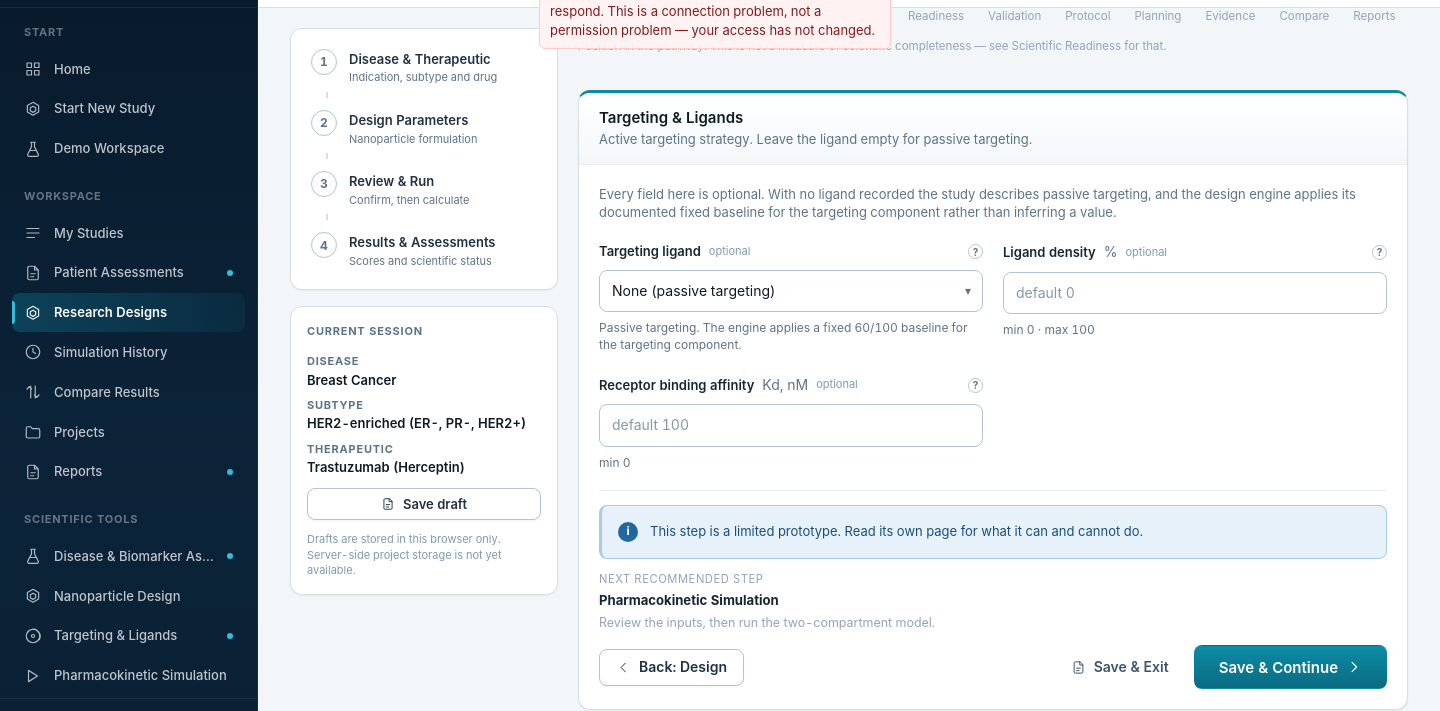
4. the controls appear and behave › moves back along the pathway when Back is pressed
This screenshot has width=1440, height=711.
(page scrolled)
Click the button with test id "pathway-back" at (672, 667), box [599, 649, 744, 686]
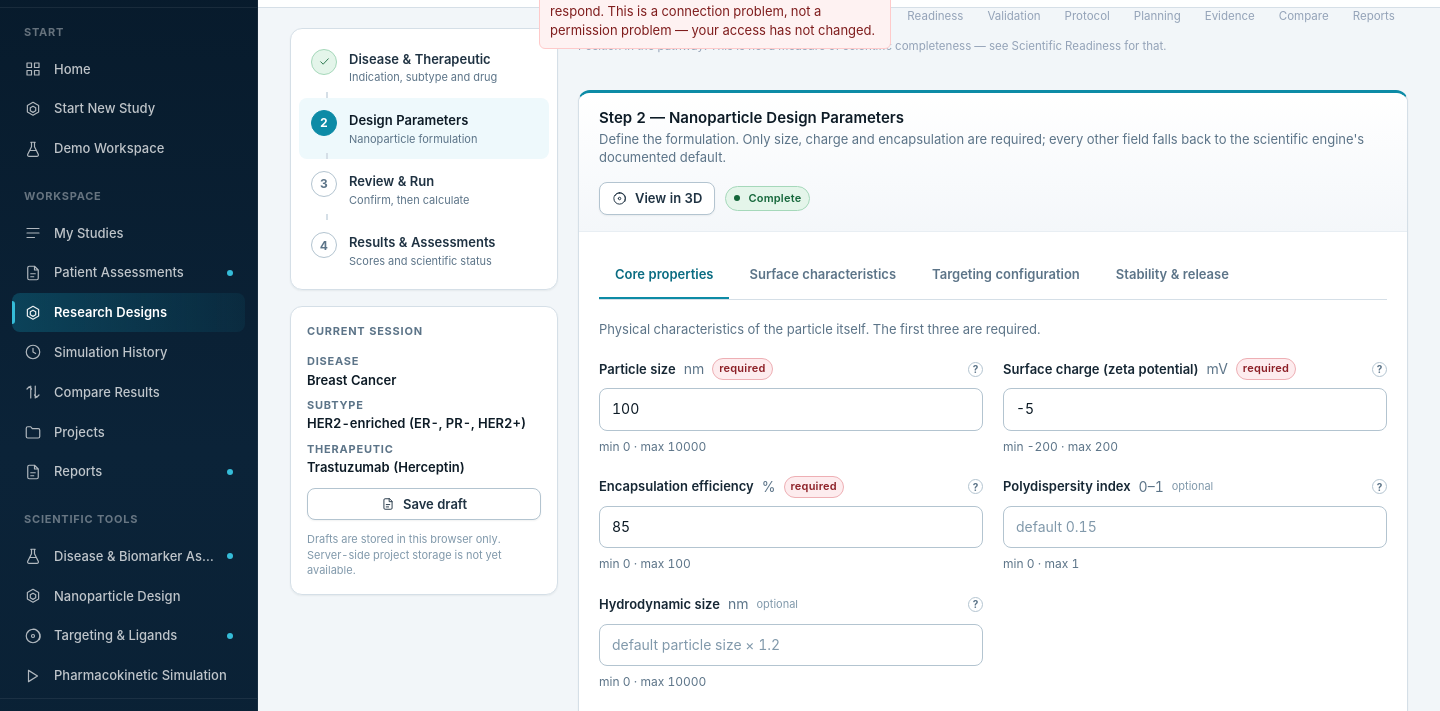
Expected: the heading "Step 2 — Nanoparticle Design Parameters" is shown, [599, 108, 904, 127]
